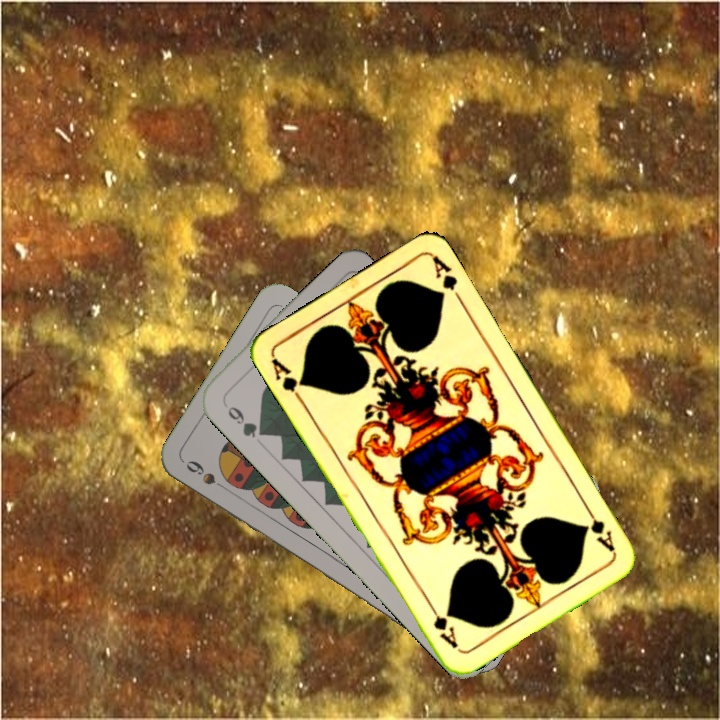G9: (219, 397, 270, 441)
GA: (267, 354, 308, 406), (580, 501, 618, 555)
S9: (182, 456, 234, 495)
